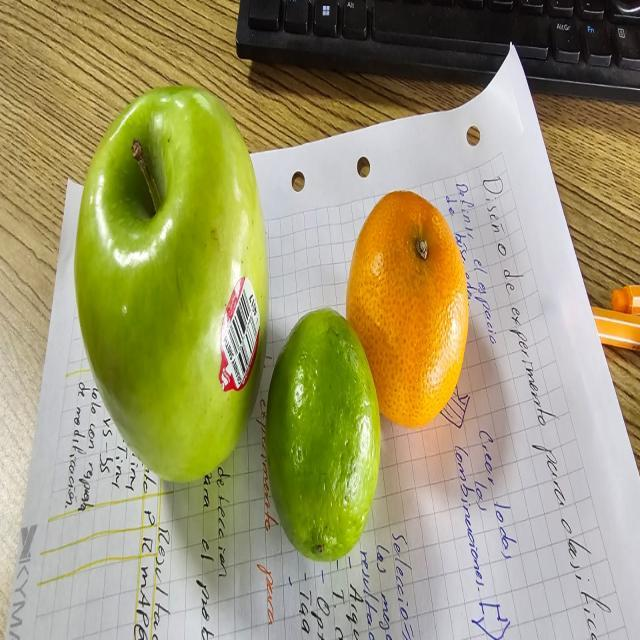Apel Granny Smith: (72, 78, 270, 488)
Jeruk Mandarin: (342, 186, 470, 434)
Lemon: (266, 300, 382, 572)
